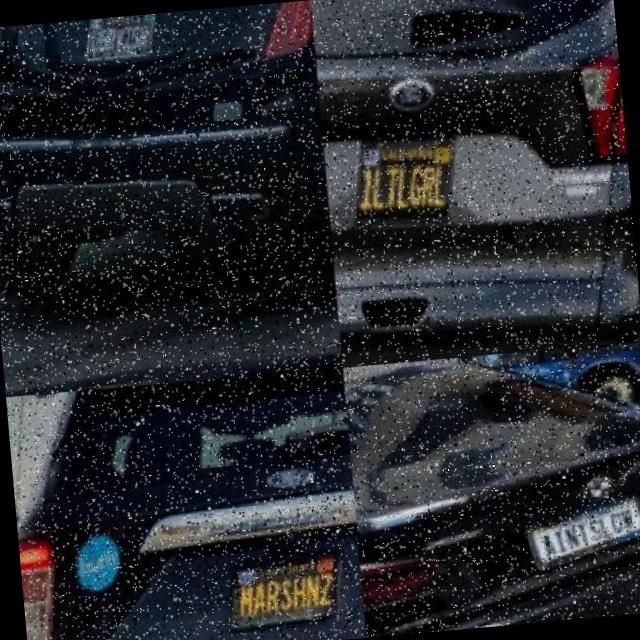LicensePlate: (352, 119, 476, 242), (234, 553, 347, 639), (527, 502, 640, 580), (93, 15, 163, 67)
